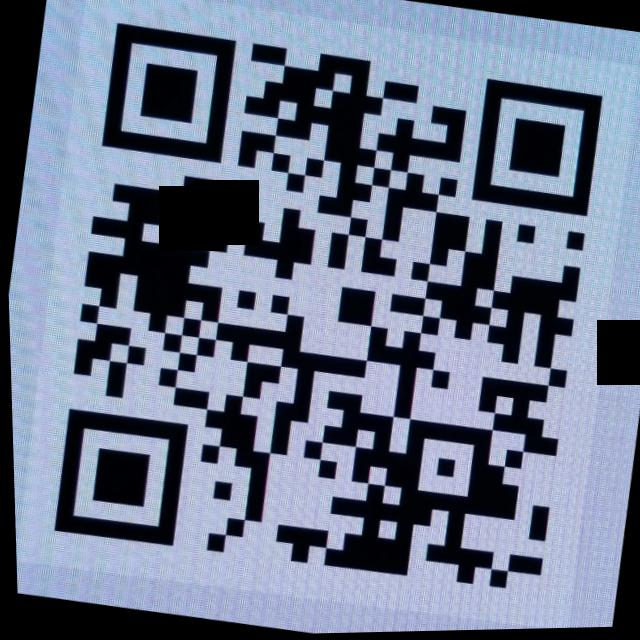QR_CODE: (5, 0, 640, 640)
